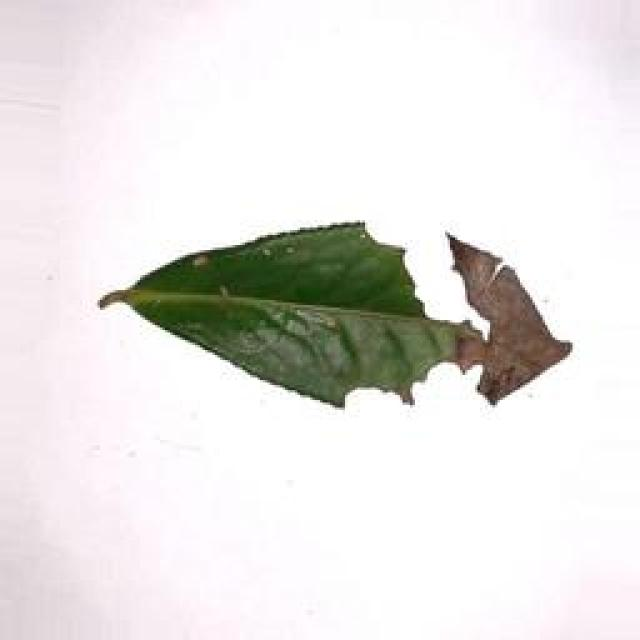Brown Blight: (86, 204, 590, 426)
